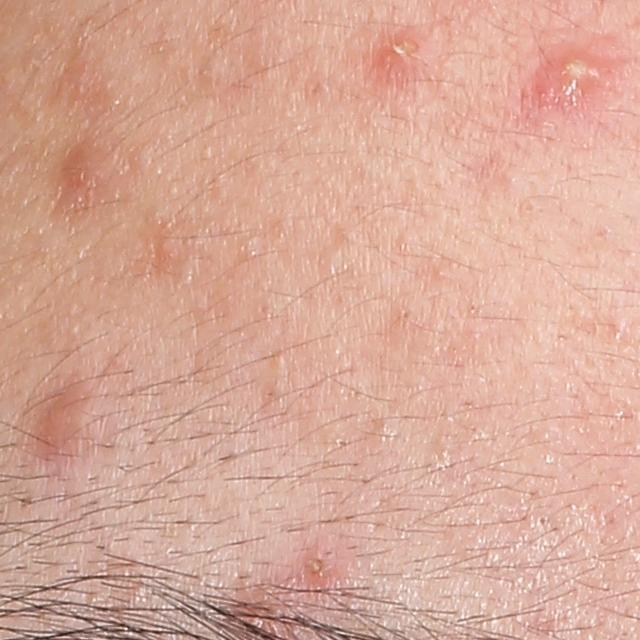papule: (38, 390, 94, 460), (64, 151, 103, 199)
pustule: (527, 50, 608, 107), (382, 32, 435, 76)
